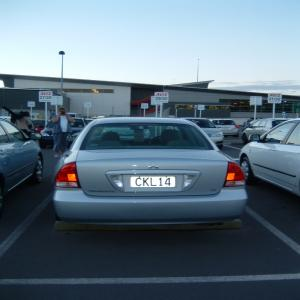Vehicle-registration-plate: (131, 177, 179, 189)
